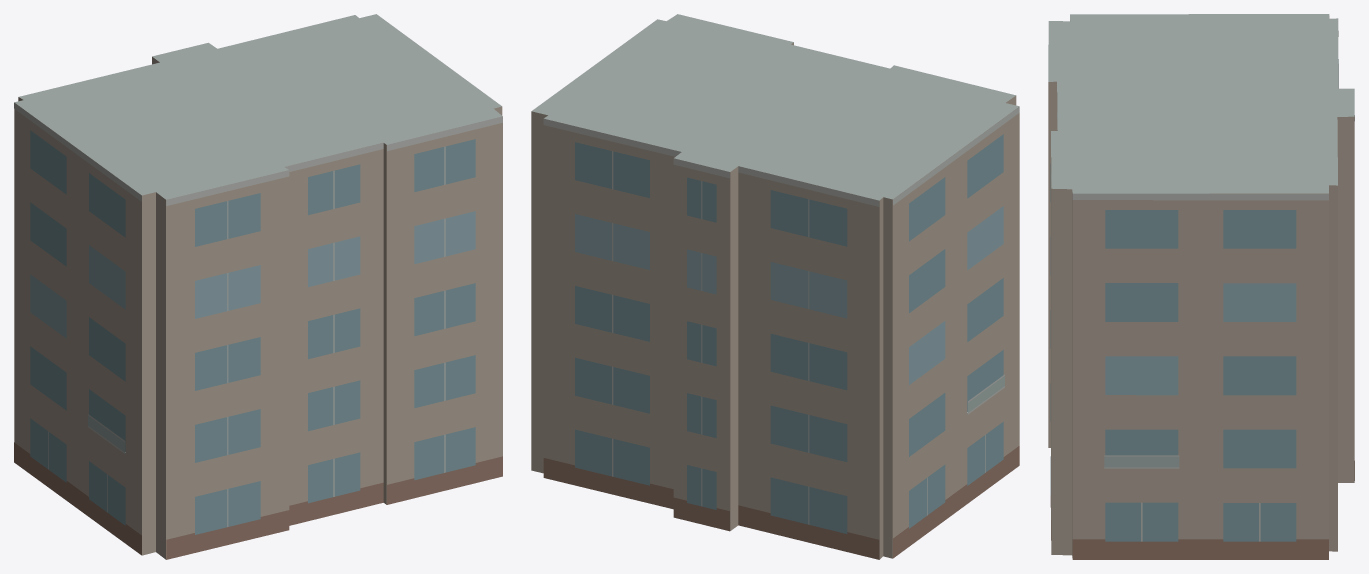
The model's file is survey-upis-32819881.glb.
3 renders of one model, left to right at view 1: azimuth 30°, elevation 25°; view 2: azimuth 150°, elevation 25°; view 3: azimuth 270°, elevation 25°, orthographic.
Visible parts, largest first — view 1: survey-upis-32819881.tmp; view 2: survey-upis-32819881.tmp; view 3: survey-upis-32819881.tmp.
Boxes of the visible parts, x1,y1,x2,y2 form: survey-upis-32819881.tmp: (14, 14, 502, 559); survey-upis-32819881.tmp: (531, 14, 1019, 559); survey-upis-32819881.tmp: (1048, 14, 1354, 559).
Size of the model in its own units: 14.6 by 13.8 by 10.49.
